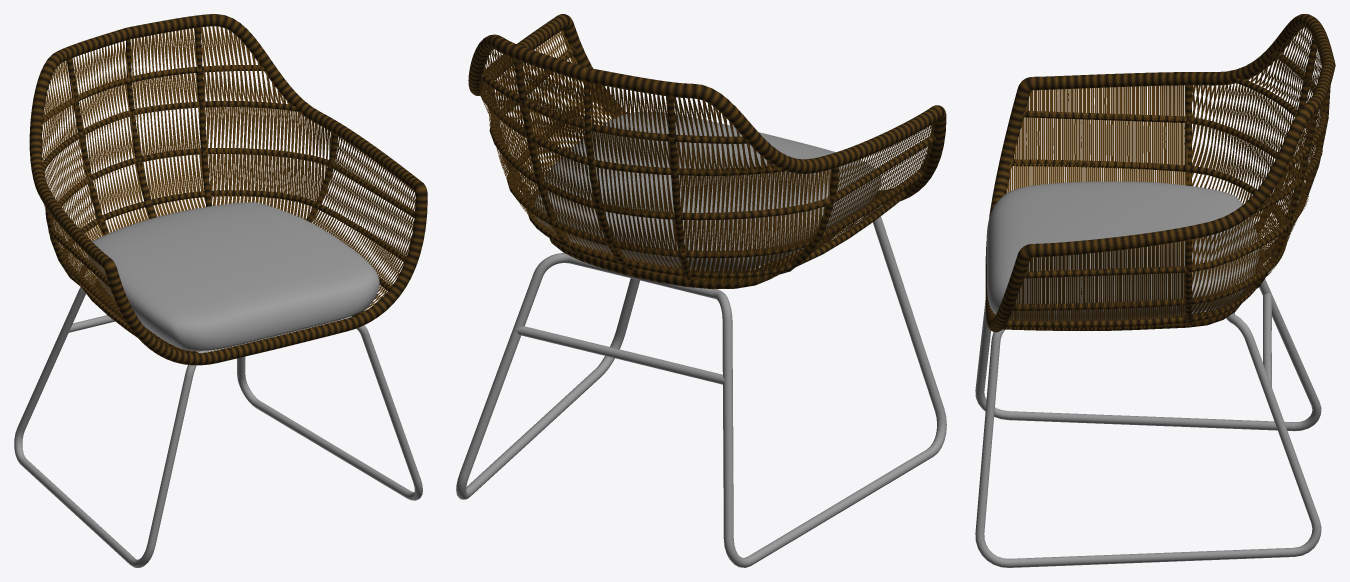
3 renders of one model, left to right at view 1: azimuth 30°, elevation 25°; view 2: azimuth 150°, elevation 25°; view 3: azimuth 270°, elevation 25°, orthographic. The views are drawn at different scales.
Visible parts, largest first — view 1: 3dstylish39, 3dstylish37, 3dstylish38, 3dstylish06, 3dstylish07, 3dstylish13, 3dstylish33, 3dstylish12, 3dstylish32, 3dstylish22, 3dstylish20, 3dstylish34 (+25 smaller); view 2: 3dstylish38, 3dstylish39, 3dstylish37, 3dstylish07, 3dstylish34, 3dstylish13, 3dstylish12, 3dstylish06, 3dstylish30, 3dstylish19, 3dstylish17, 3dstylish32 (+26 smaller); view 3: 3dstylish39, 3dstylish38, 3dstylish37, 3dstylish33, 3dstylish32, 3dstylish35, 3dstylish36, 3dstylish07, 3dstylish06, 3dstylish34, 3dstylish30, 3dstylish13 (+16 smaller).
Boxes of the visible parts, bbox=[...] form: 3dstylish39: bbox=[87, 202, 379, 350]; 3dstylish37: bbox=[29, 14, 427, 365]; 3dstylish38: bbox=[14, 280, 422, 567]; 3dstylish06: bbox=[44, 107, 332, 203]; 3dstylish07: bbox=[44, 105, 330, 201]; 3dstylish13: bbox=[54, 152, 327, 250]; 3dstylish33: bbox=[49, 170, 414, 307]; 3dstylish12: bbox=[54, 154, 326, 251]; 3dstylish32: bbox=[55, 168, 413, 321]; 3dstylish22: bbox=[84, 106, 200, 172]; 3dstylish20: bbox=[73, 28, 198, 99]; 3dstylish34: bbox=[48, 147, 414, 287]; 3dstylish38: bbox=[456, 209, 946, 567]; 3dstylish39: bbox=[534, 111, 881, 270]; 3dstylish37: bbox=[468, 14, 946, 203]; 3dstylish07: bbox=[486, 87, 829, 216]; 3dstylish34: bbox=[489, 47, 936, 220]; 3dstylish13: bbox=[497, 124, 825, 256]; 3dstylish12: bbox=[496, 147, 825, 251]; 3dstylish06: bbox=[480, 94, 831, 212]; 3dstylish30: bbox=[507, 91, 924, 258]; 3dstylish19: bbox=[518, 61, 667, 134]; 3dstylish17: bbox=[532, 142, 673, 213]; 3dstylish32: bbox=[499, 55, 931, 238]; 3dstylish39: bbox=[986, 181, 1258, 320]; 3dstylish38: bbox=[975, 273, 1321, 567]; 3dstylish37: bbox=[985, 14, 1335, 332]; 3dstylish33: bbox=[1011, 117, 1187, 304]; 3dstylish32: bbox=[1013, 117, 1185, 309]; 3dstylish35: bbox=[1025, 85, 1189, 271]; 3dstylish36: bbox=[1027, 85, 1183, 272]; 3dstylish07: bbox=[1191, 80, 1294, 268]; 3dstylish06: bbox=[1190, 85, 1301, 265]; 3dstylish34: bbox=[1023, 111, 1306, 278]; 3dstylish30: bbox=[1011, 159, 1286, 310]; 3dstylish13: bbox=[1189, 121, 1280, 301].
Bounding box in the file's own units: 26.32 × 30.96 × 23.19.
